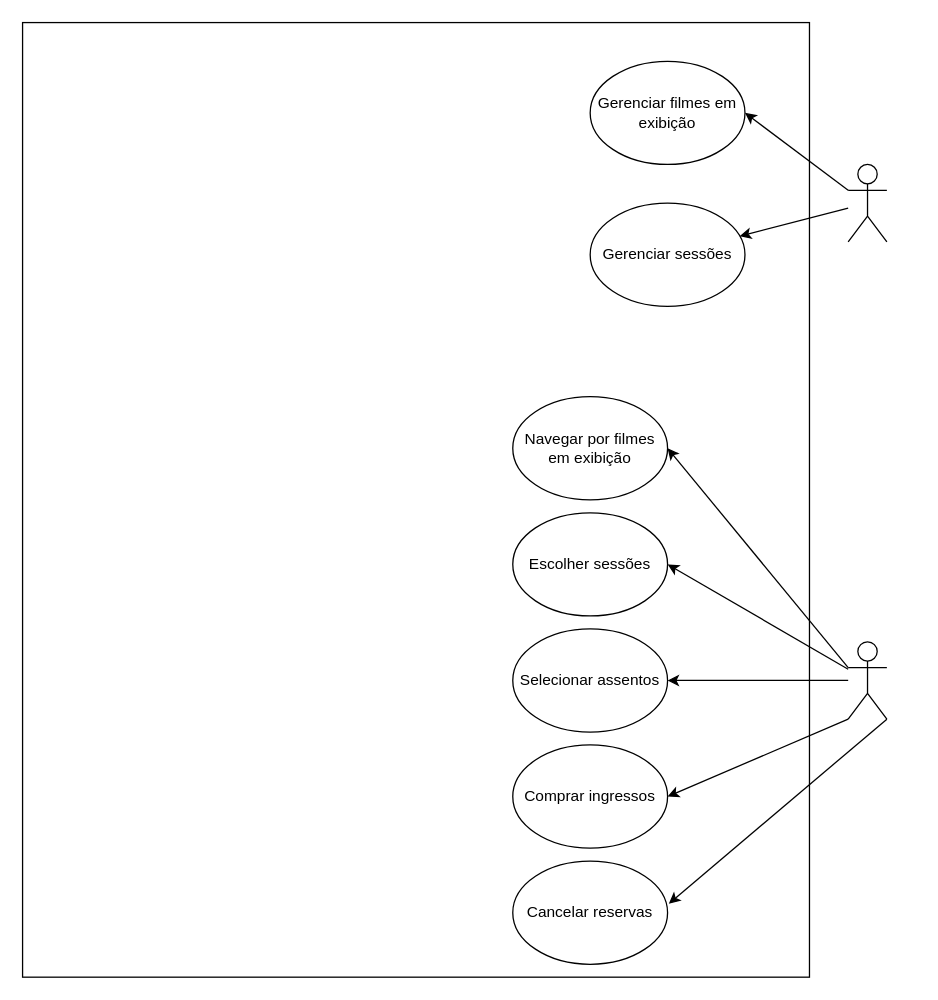
Some shapes in this 938 by 1000 pixel diagram are drawn without their labels. The box of each missing label's shape, as (x1, y1, x2, y2) in pixels:
Administrador: (847, 163, 887, 242)
Usuário: (847, 640, 887, 719)
